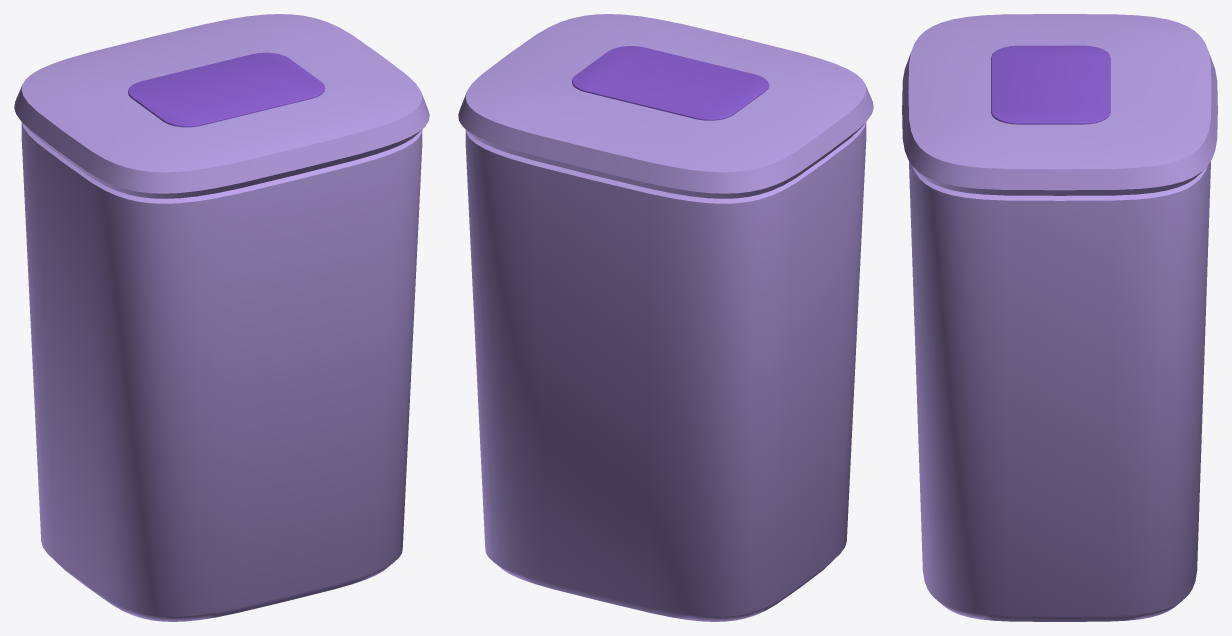
File: cesto_roupa_tampa_lilas.glb
3 renders of one model, left to right at view 1: azimuth 30°, elevation 25°; view 2: azimuth 150°, elevation 25°; view 3: azimuth 270°, elevation 25°, orthographic.
Parts seen in each view (by area): view 1: cesto_roupa_tampa_lilas, tampa; view 2: cesto_roupa_tampa_lilas, tampa; view 3: cesto_roupa_tampa_lilas, tampa.
Boxes of the visible parts, x1,y1,x2,y2 form: cesto_roupa_tampa_lilas: (21, 122, 422, 621); tampa: (14, 14, 429, 198); cesto_roupa_tampa_lilas: (465, 122, 866, 621); tampa: (458, 14, 873, 198); cesto_roupa_tampa_lilas: (909, 161, 1210, 621); tampa: (902, 14, 1217, 195).
Size of the model in its own units: 0.414 by 0.567 by 0.344.
1 material, 1 textured.
